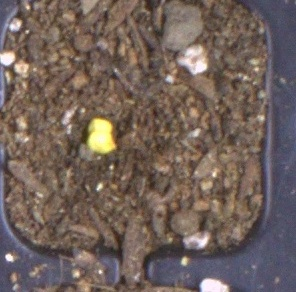chilli seed: (88, 131, 117, 154), (87, 117, 113, 131)
